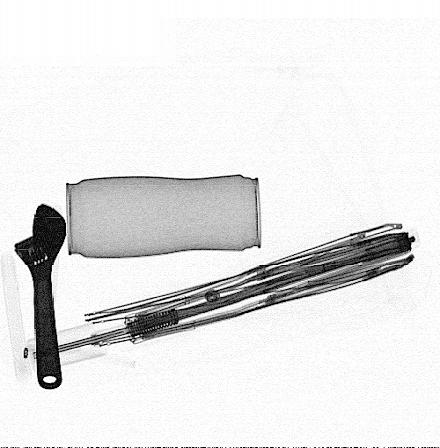Wrench: (12, 199, 68, 393)
